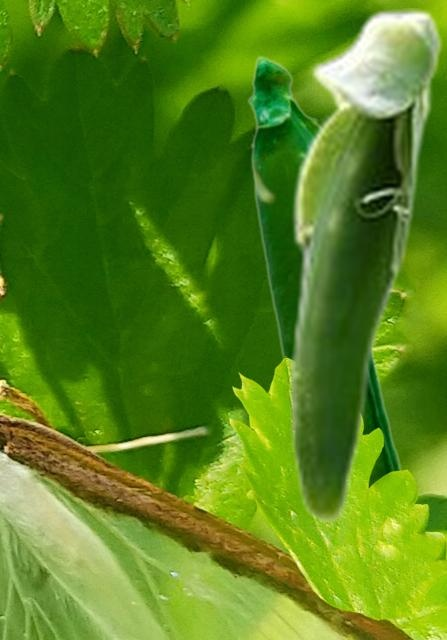pea: (288, 8, 443, 524), (247, 54, 404, 486)
